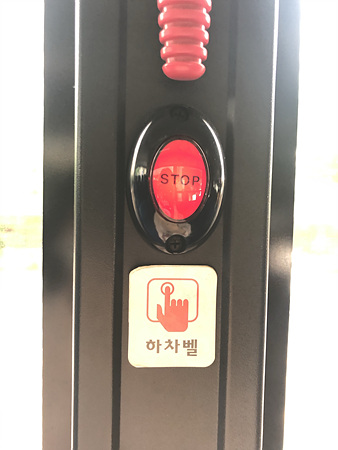bell: (128, 106, 226, 254)
